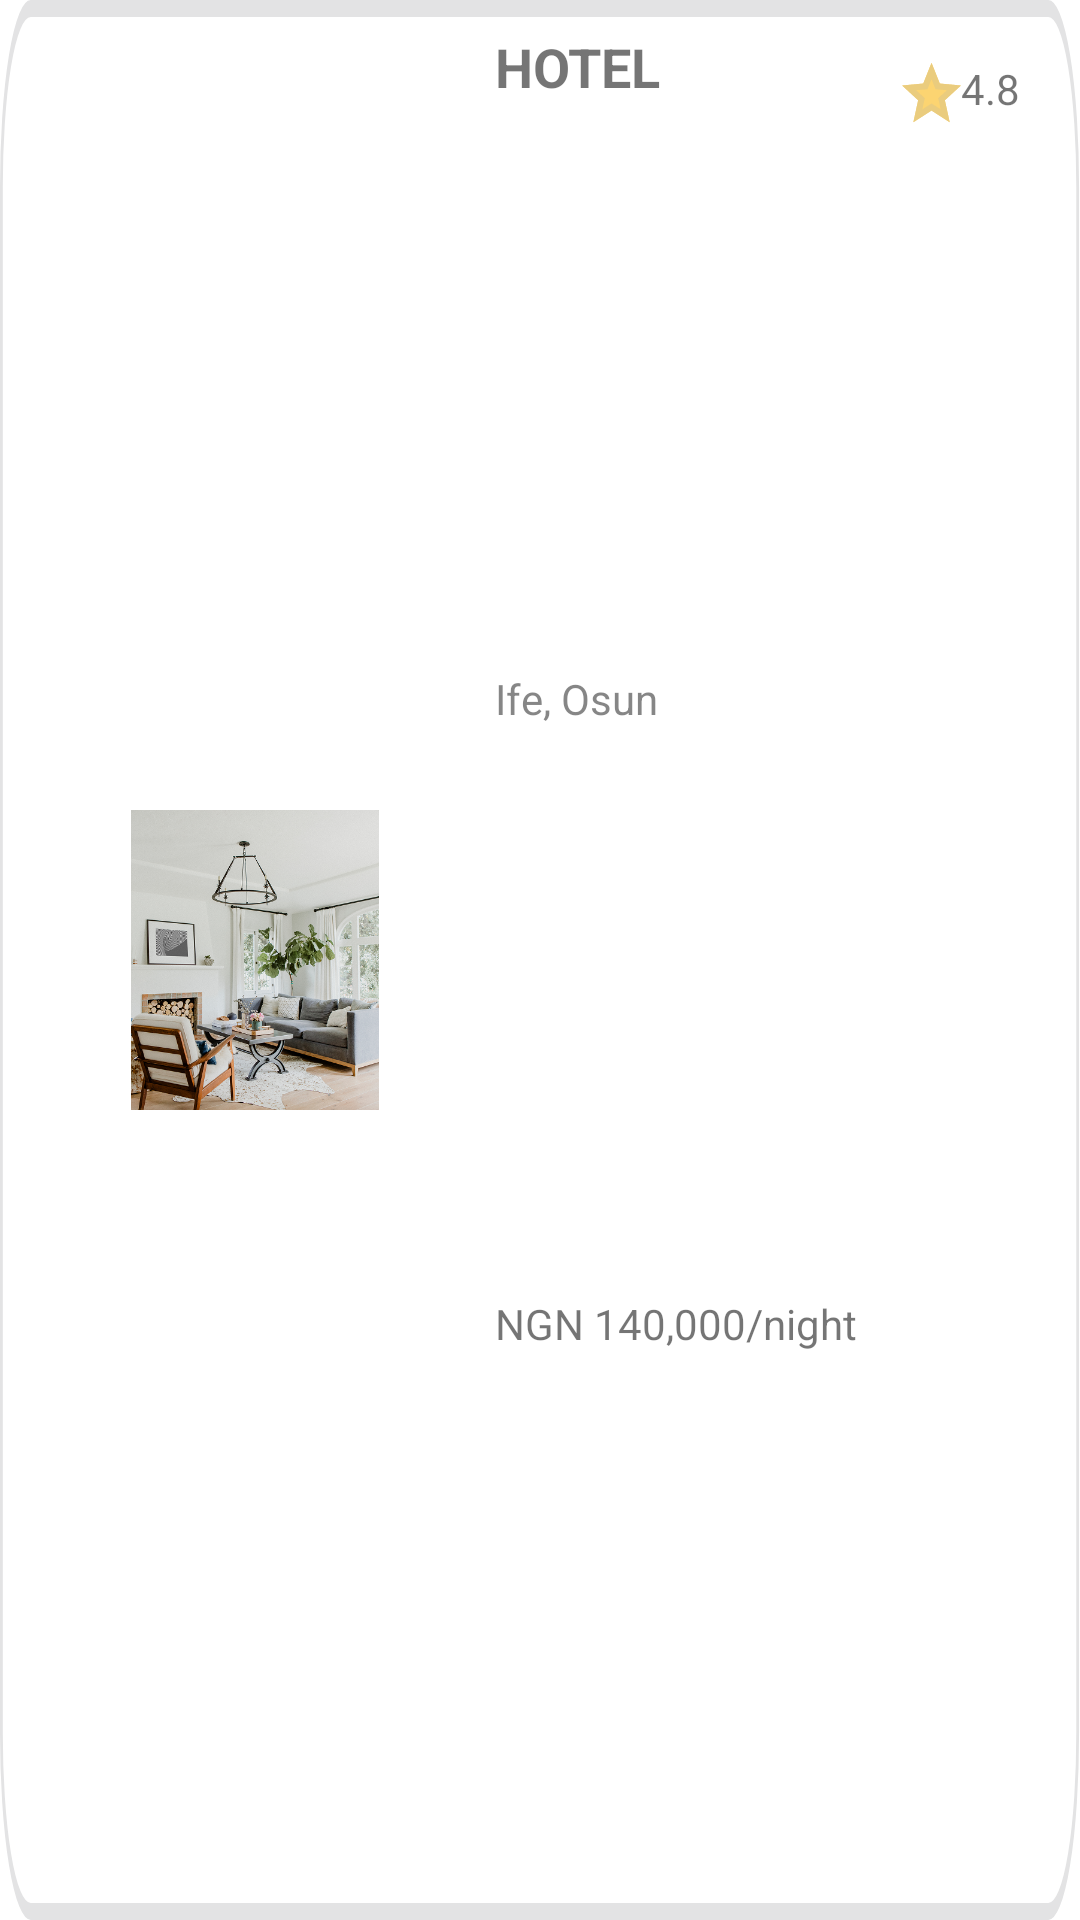

Screen size 1080 x 1920. Icon name, then its box in pixels as (x1, y1, x2, y2):
star: (902, 63, 961, 122)
